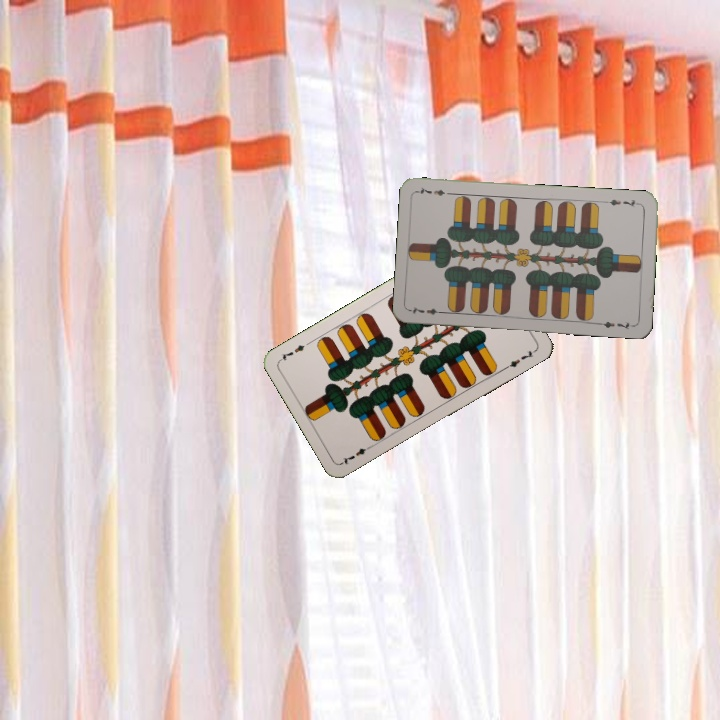E7: (338, 441, 375, 467), (407, 302, 448, 317), (602, 195, 643, 209)
